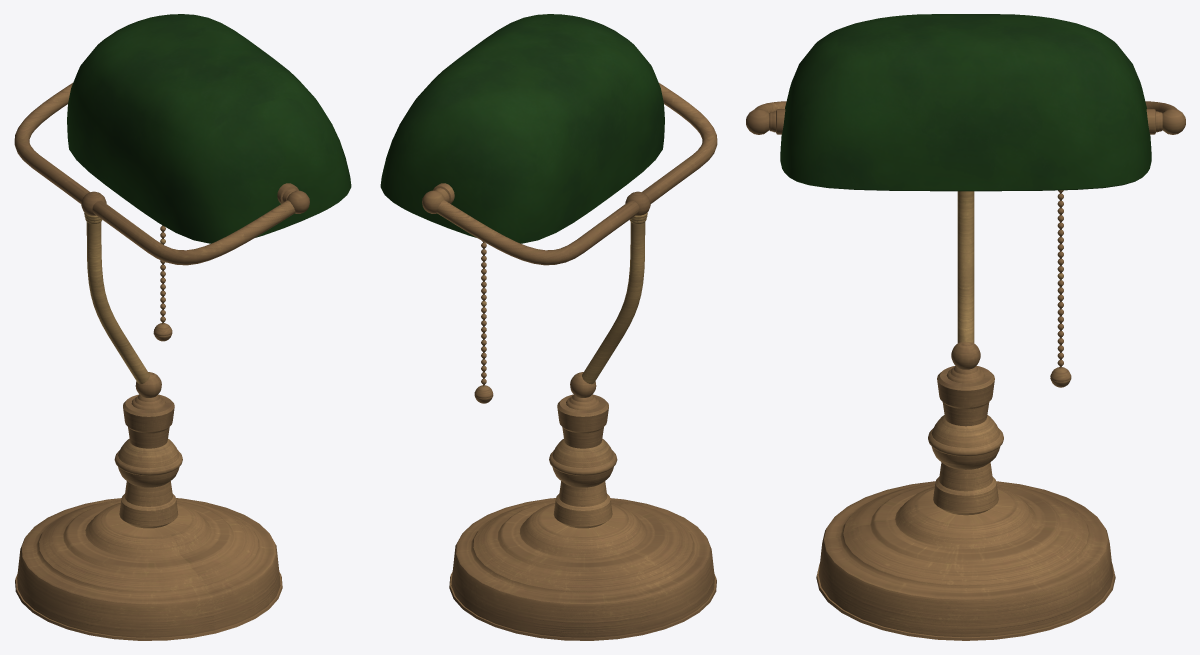
Rendered from Banker_Lamp.fbx.
3 renders of one model, left to right at view 1: azimuth 30°, elevation 25°; view 2: azimuth 150°, elevation 25°; view 3: azimuth 270°, elevation 25°, orthographic. The views are drawn at different scales.
Parts seen in each view (by area): view 1: Banker Lamp 1 LP; view 2: Banker Lamp 1 LP; view 3: Banker Lamp 1 LP.
Boxes of the visible parts, left/top/right/bottom form: Banker Lamp 1 LP: left=14, top=14, right=351, bottom=640; Banker Lamp 1 LP: left=380, top=14, right=717, bottom=640; Banker Lamp 1 LP: left=746, top=14, right=1185, bottom=640.
Bounding box in the file's own units: 20.24 × 38.2 × 26.17.
